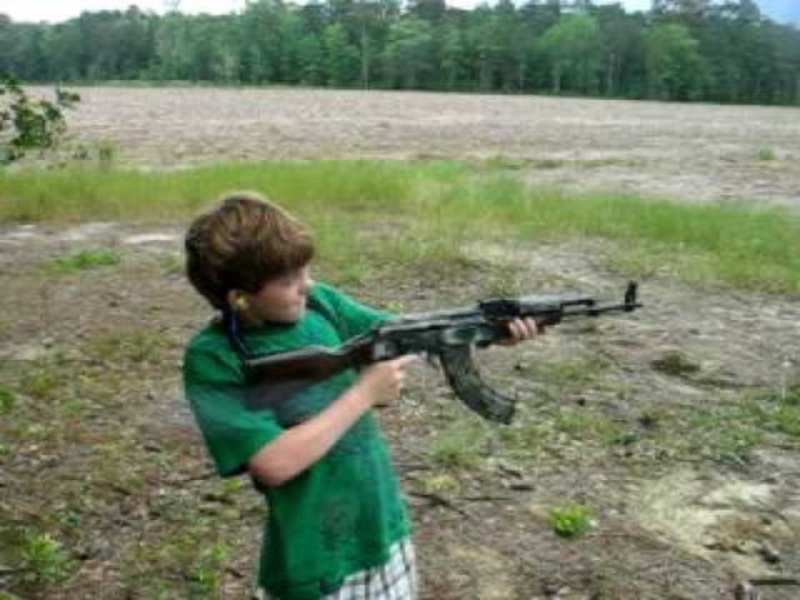person: (184, 192, 414, 600)
weapon: (244, 280, 645, 425)
